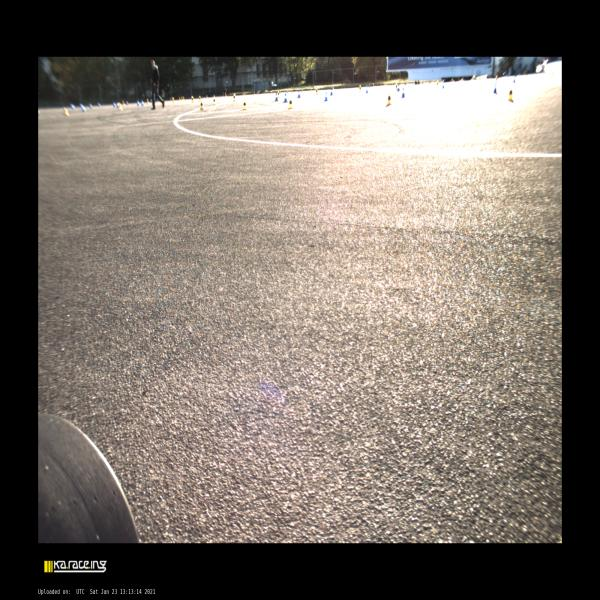blue_cone: (493, 82, 498, 94), (283, 93, 288, 102), (401, 87, 405, 98), (324, 91, 328, 101), (80, 104, 85, 112), (274, 92, 278, 101), (297, 90, 301, 98), (442, 79, 445, 88), (71, 103, 75, 109), (89, 103, 93, 109), (513, 75, 516, 83), (397, 84, 400, 91), (330, 88, 333, 95), (38, 109, 41, 115), (137, 100, 140, 106), (366, 85, 368, 93), (98, 102, 101, 107), (117, 102, 119, 108), (142, 100, 144, 106), (114, 102, 116, 107), (126, 101, 128, 105), (279, 90, 281, 93), (369, 83, 370, 88), (157, 98, 158, 102), (256, 92, 258, 94), (151, 99, 152, 102), (287, 90, 288, 93), (301, 89, 302, 92), (170, 98, 171, 100), (406, 82, 406, 85)
yellow_cone: (386, 93, 392, 105), (508, 88, 513, 101), (288, 98, 293, 109), (242, 100, 247, 110), (64, 107, 69, 116), (118, 102, 123, 110), (212, 97, 216, 104), (122, 100, 126, 107), (200, 101, 203, 110), (233, 93, 236, 101), (278, 90, 280, 98), (316, 87, 318, 95), (396, 82, 398, 90), (199, 95, 201, 102), (359, 85, 361, 92), (437, 80, 439, 87), (496, 75, 498, 82), (147, 99, 149, 105), (172, 97, 174, 103), (192, 96, 194, 102), (181, 96, 183, 101), (206, 94, 208, 99), (225, 93, 227, 97), (333, 85, 334, 91), (179, 96, 180, 101), (183, 96, 184, 101), (244, 92, 245, 96), (254, 91, 255, 95), (258, 91, 259, 95), (291, 90, 293, 92), (373, 83, 374, 87)
